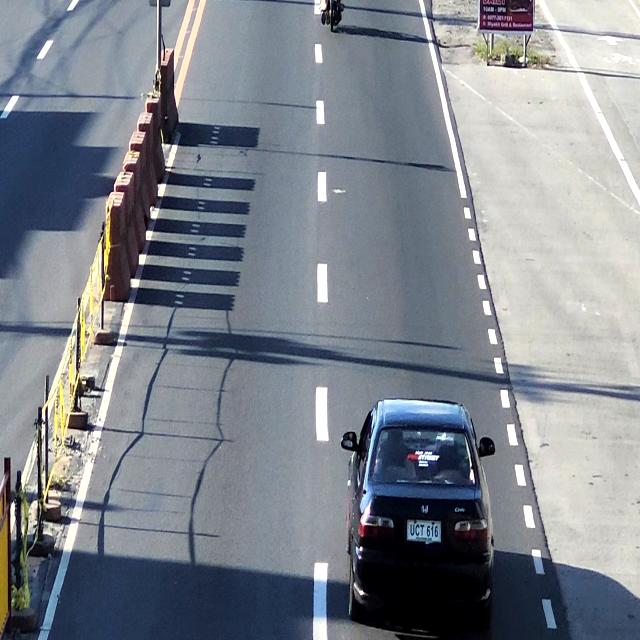Car: (343, 400, 493, 634)
License-Plate: (409, 519, 441, 543)
